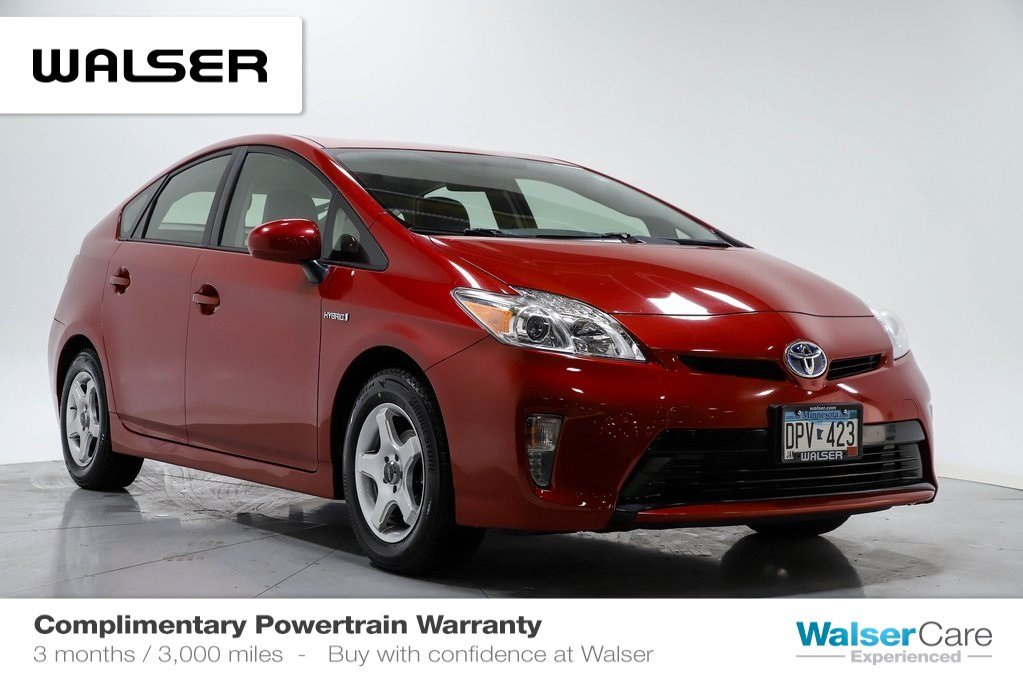Toyota Prius: (44, 129, 943, 578)
